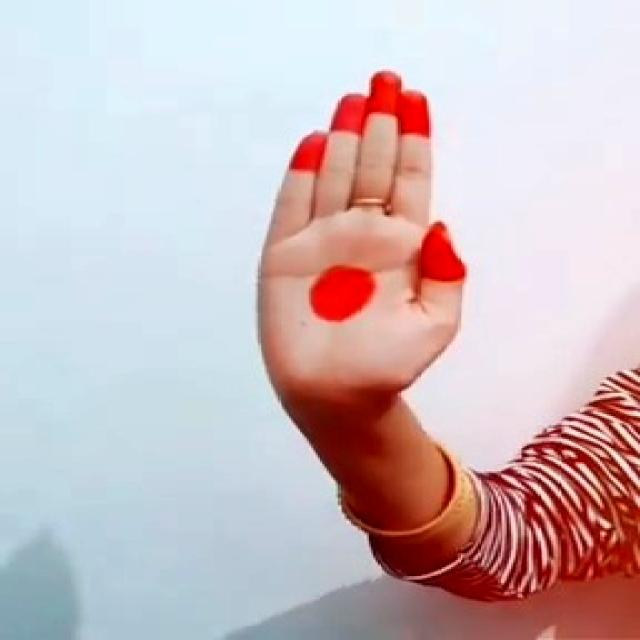Pataka: (237, 32, 499, 413)
bangle: (322, 447, 484, 549)
